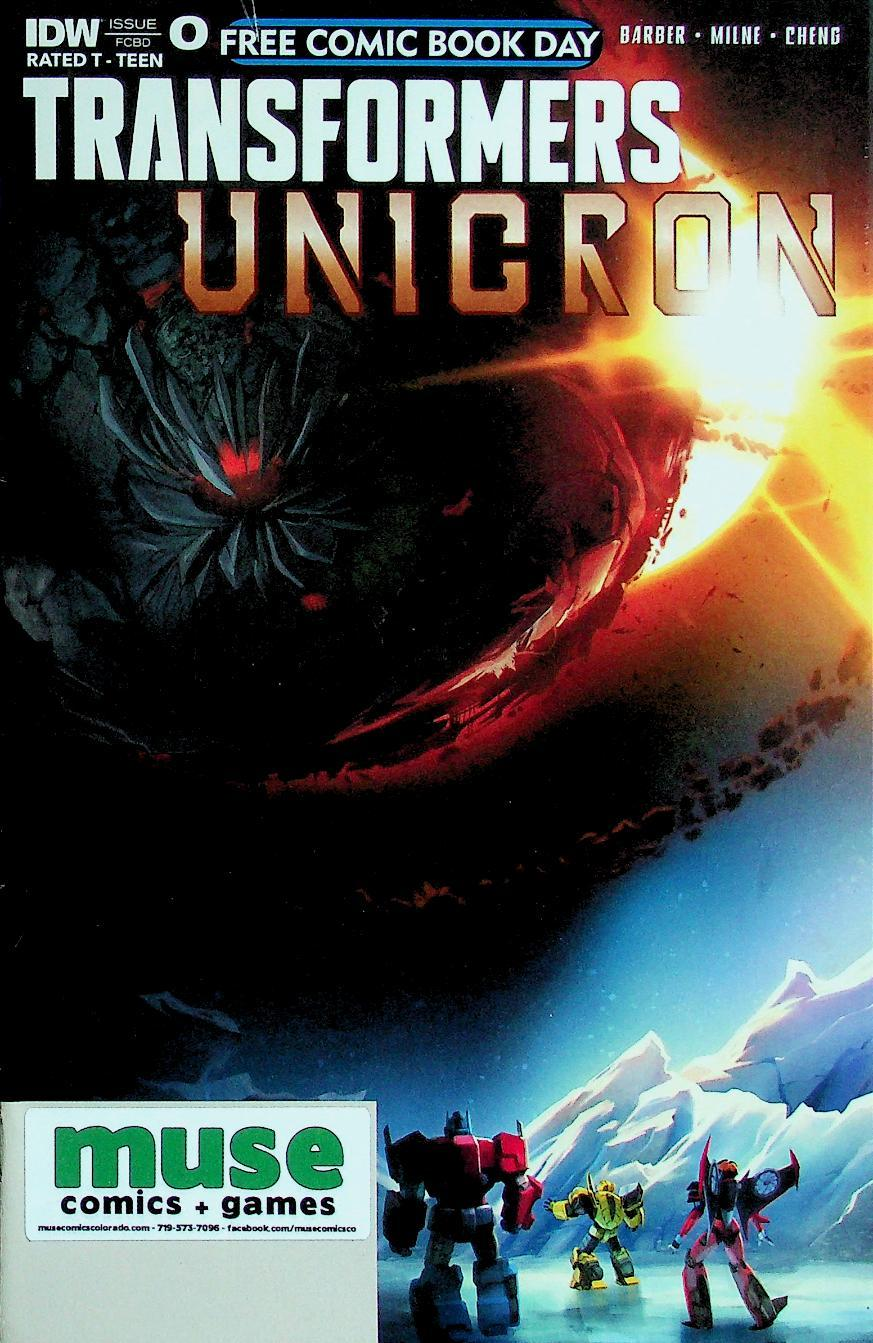comic: (3, 0, 872, 1342), (0, 1101, 377, 1342)
